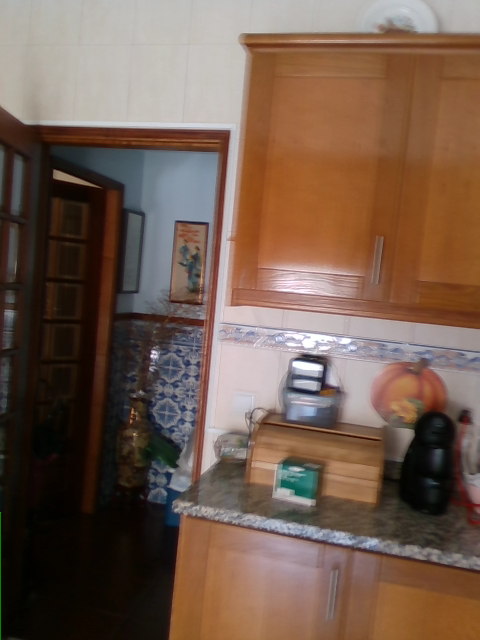open: (0, 102, 230, 604)
